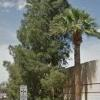Tree: (15, 3, 100, 67)
